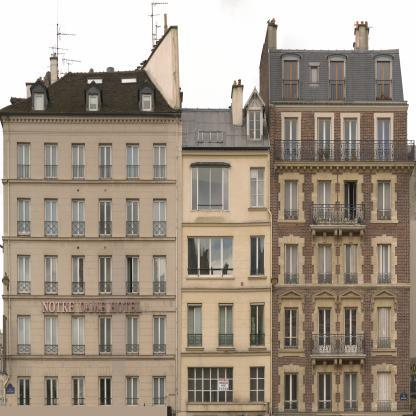Balcony: (274, 140, 415, 162), (311, 334, 367, 358), (310, 204, 366, 227)
Building Outline: (0, 22, 416, 416)
Cornice: (337, 287, 365, 310), (277, 288, 306, 310), (311, 288, 338, 310), (371, 288, 398, 310), (189, 162, 232, 167)
Deco: (42, 302, 142, 313), (339, 228, 343, 246), (360, 228, 364, 246), (312, 229, 316, 247), (334, 228, 338, 246), (339, 358, 343, 375), (312, 358, 316, 375), (334, 359, 338, 375), (360, 359, 364, 374), (349, 230, 353, 243), (323, 230, 327, 243), (349, 359, 353, 372), (323, 359, 327, 372)
Door: (284, 117, 299, 160), (343, 117, 358, 160), (317, 117, 332, 160), (317, 180, 332, 223), (344, 307, 358, 353), (318, 307, 332, 353), (377, 117, 391, 160), (344, 180, 358, 223)
Facade: (0, 22, 416, 415)
Floor: (4, 123, 182, 193), (4, 250, 182, 312), (4, 308, 182, 368), (4, 193, 182, 250), (272, 288, 410, 359), (270, 109, 410, 172), (4, 368, 182, 416), (272, 229, 410, 288), (270, 172, 410, 229), (272, 359, 410, 416), (181, 288, 272, 361), (181, 151, 272, 222), (181, 223, 272, 288), (181, 361, 272, 416)
Floor Slab: (4, 410, 410, 414), (3, 120, 182, 124), (4, 304, 182, 308), (4, 246, 182, 250), (4, 189, 182, 193), (4, 365, 182, 369), (270, 168, 410, 172), (270, 105, 408, 109), (272, 284, 410, 288), (272, 225, 410, 229), (272, 355, 410, 359), (181, 284, 272, 288), (181, 219, 272, 223), (181, 357, 272, 361), (181, 152, 270, 156)
Molding: (1, 114, 182, 123), (275, 162, 411, 172)
Roof: (0, 69, 174, 112), (182, 108, 270, 151)
Sill: (1, 236, 176, 241), (2, 354, 175, 359), (186, 403, 267, 412), (1, 179, 176, 183), (1, 295, 175, 299), (277, 219, 306, 225), (370, 220, 398, 225), (371, 348, 397, 353), (278, 349, 305, 353), (248, 207, 267, 212), (248, 276, 267, 281), (185, 347, 205, 351), (216, 348, 236, 352), (248, 347, 267, 351)
Top Floor: (270, 50, 405, 109), (32, 75, 174, 124), (181, 108, 263, 156)
Window: (187, 236, 234, 277), (191, 167, 230, 211), (188, 367, 234, 403), (250, 303, 265, 347), (188, 303, 203, 347), (219, 303, 234, 347), (250, 167, 265, 207), (284, 180, 299, 220), (284, 307, 298, 349), (250, 236, 264, 277), (377, 307, 391, 348), (44, 315, 58, 355), (44, 255, 58, 295), (377, 180, 391, 220), (377, 244, 391, 284), (344, 244, 358, 284), (318, 244, 332, 284), (284, 244, 298, 284), (377, 371, 391, 411), (318, 372, 332, 412), (44, 198, 58, 237), (330, 61, 344, 100), (377, 61, 391, 100), (344, 372, 358, 411), (284, 373, 298, 412), (17, 314, 30, 355), (72, 315, 85, 356), (17, 254, 30, 295), (72, 255, 85, 296), (44, 142, 58, 180), (153, 315, 166, 355), (99, 315, 112, 355), (126, 315, 139, 355), (153, 255, 166, 295), (99, 255, 112, 295), (126, 255, 139, 295), (284, 60, 297, 100), (99, 198, 112, 237), (250, 367, 264, 403), (153, 199, 166, 237), (17, 198, 30, 236), (72, 199, 85, 237), (126, 199, 139, 237), (153, 143, 166, 180), (17, 142, 30, 179), (72, 143, 85, 180), (99, 143, 112, 180), (126, 143, 139, 180), (125, 376, 139, 406), (44, 376, 58, 406), (17, 376, 31, 406), (98, 376, 112, 406), (71, 376, 85, 406), (153, 376, 166, 406), (249, 110, 261, 141), (198, 131, 223, 143), (89, 94, 99, 112), (34, 92, 44, 110), (142, 93, 152, 111), (311, 66, 318, 82), (87, 77, 103, 84), (121, 77, 136, 83)
